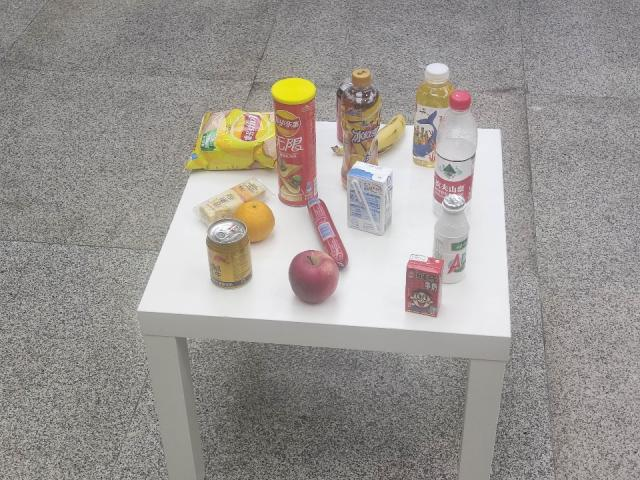Canned_drinks: (206, 220, 253, 289)
bottle: (434, 92, 482, 215)
cylinder: (266, 76, 320, 205)
drink_box: (343, 154, 398, 239), (400, 248, 450, 322)
